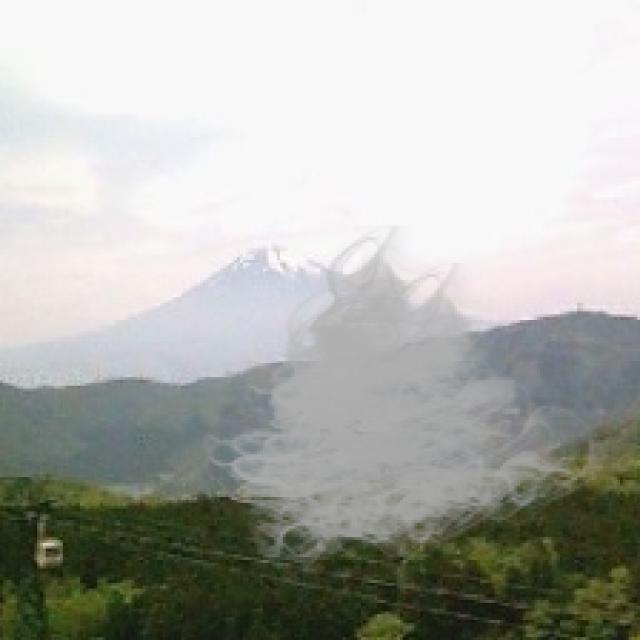smoke: (192, 226, 612, 583)
